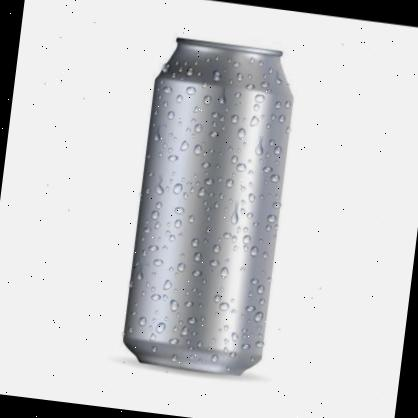can: (116, 29, 303, 379)
